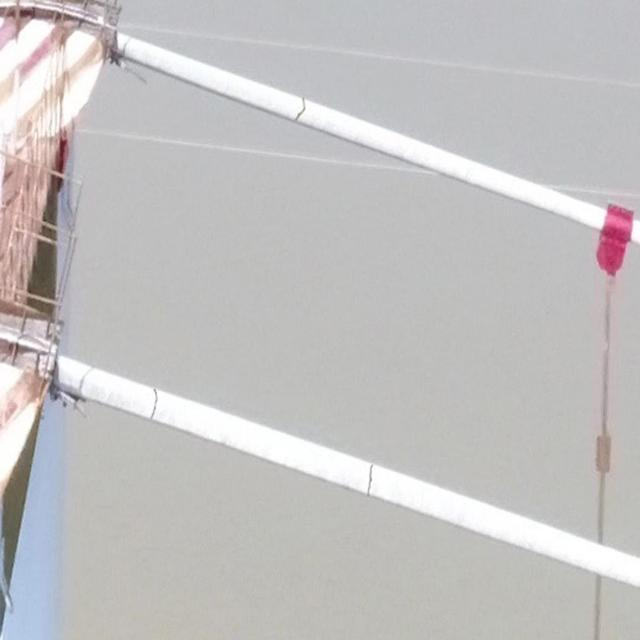crack: (148, 390, 160, 420), (294, 98, 307, 121), (365, 464, 374, 497)
